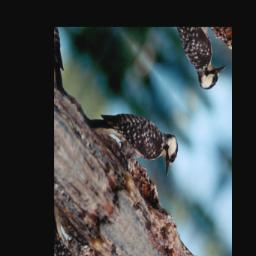Woodpecker: (79, 54, 189, 209)
